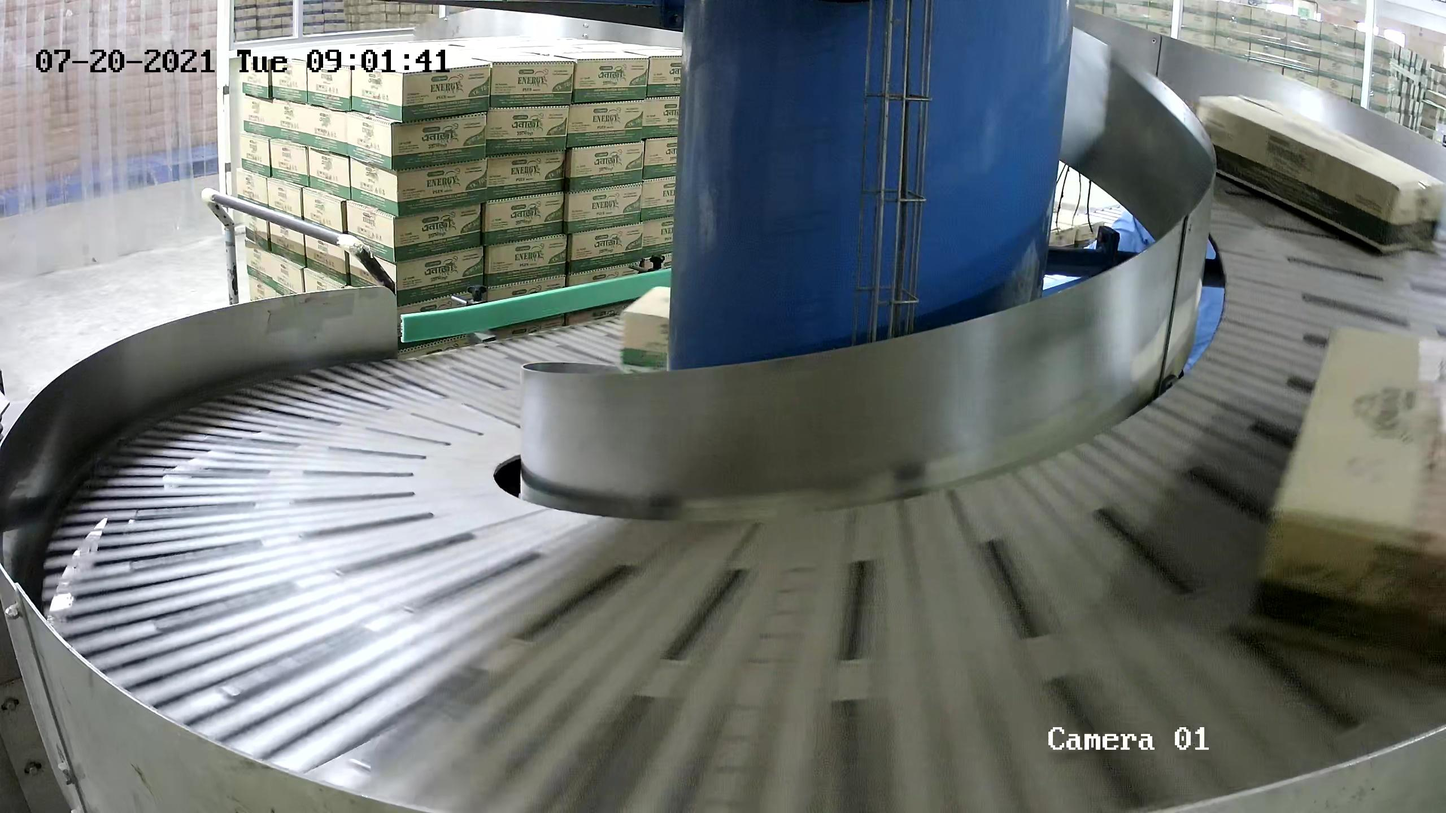Box: (1241, 319, 1446, 669), (1193, 94, 1446, 252), (620, 285, 671, 371)
